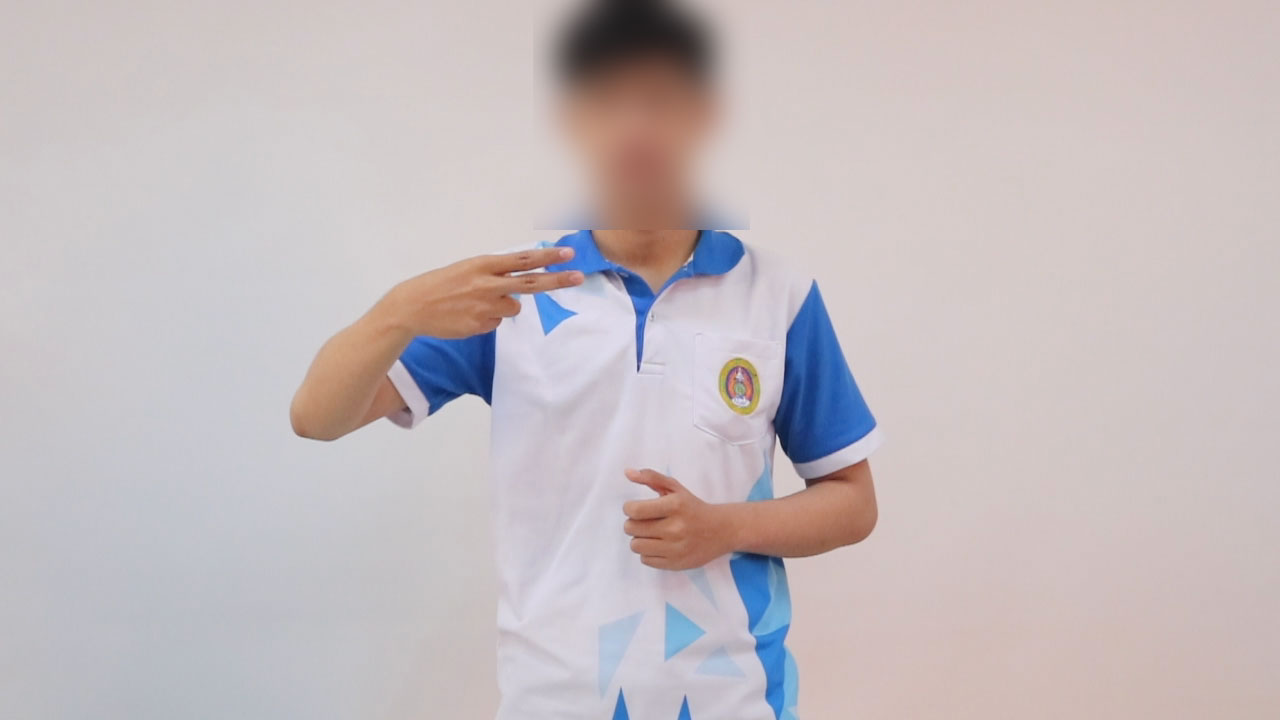hor: (371, 241, 590, 354)
